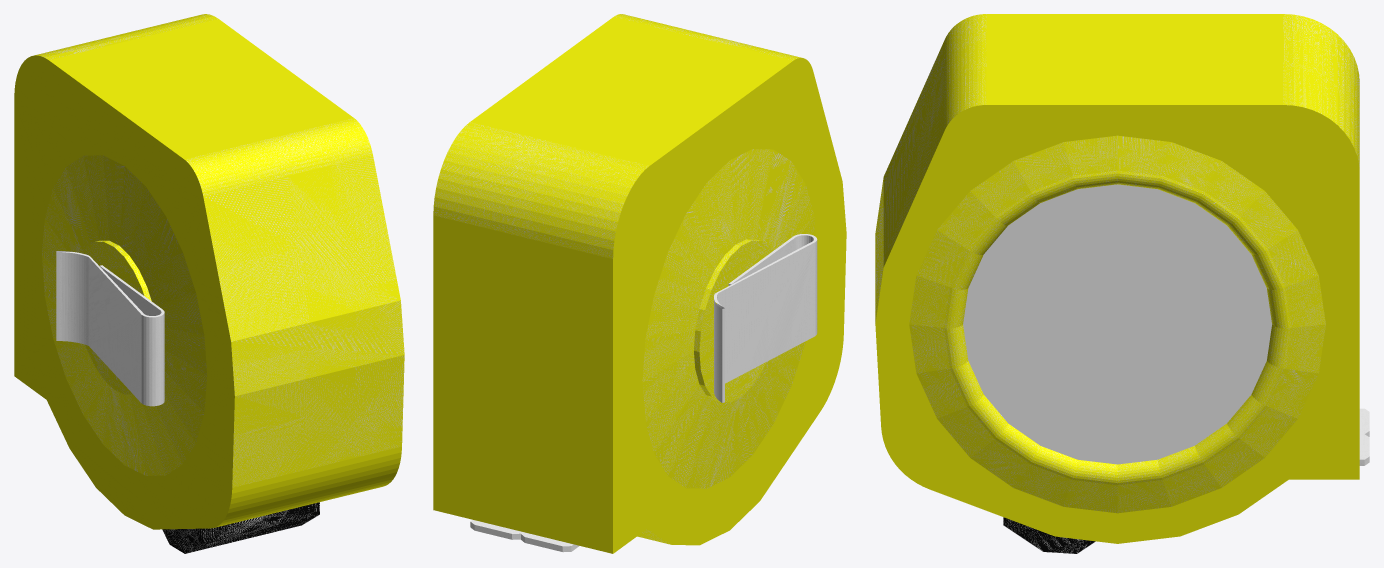
3 views of the same model, side by side, from view 1: azimuth 30°, elevation 25°; view 2: azimuth 150°, elevation 25°; view 3: azimuth 270°, elevation 25° (orthographic). The views are drawn at different scales.
Visible parts, largest first — view 1: tape measure; view 2: tape measure; view 3: tape measure.
Part boxes in pixels (x1,y1,x2,y2): tape measure: (14, 14, 404, 553); tape measure: (433, 14, 846, 553); tape measure: (875, 14, 1369, 553).
Size of the model in its own units: 1.23 by 2.37 by 2.3.
